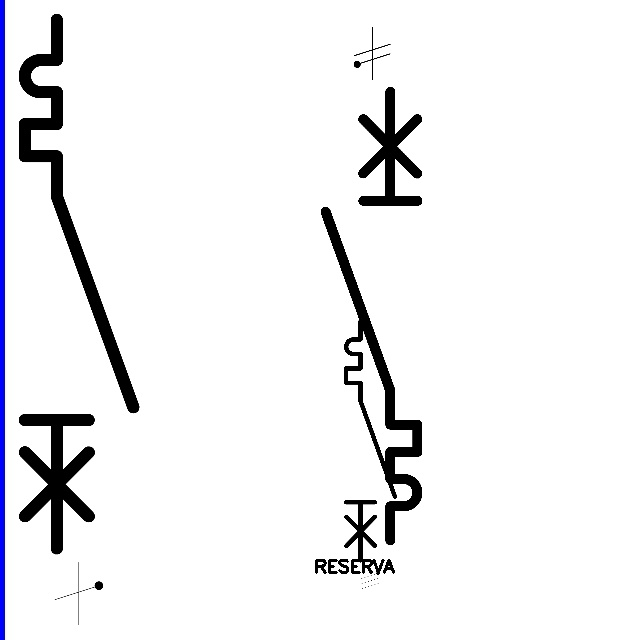interruptor_termomagnetico: (11, 6, 147, 562), (314, 80, 429, 552), (340, 315, 401, 566)
